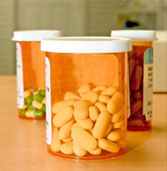pill bottle: (40, 36, 133, 160), (111, 29, 157, 132), (15, 30, 60, 120)
